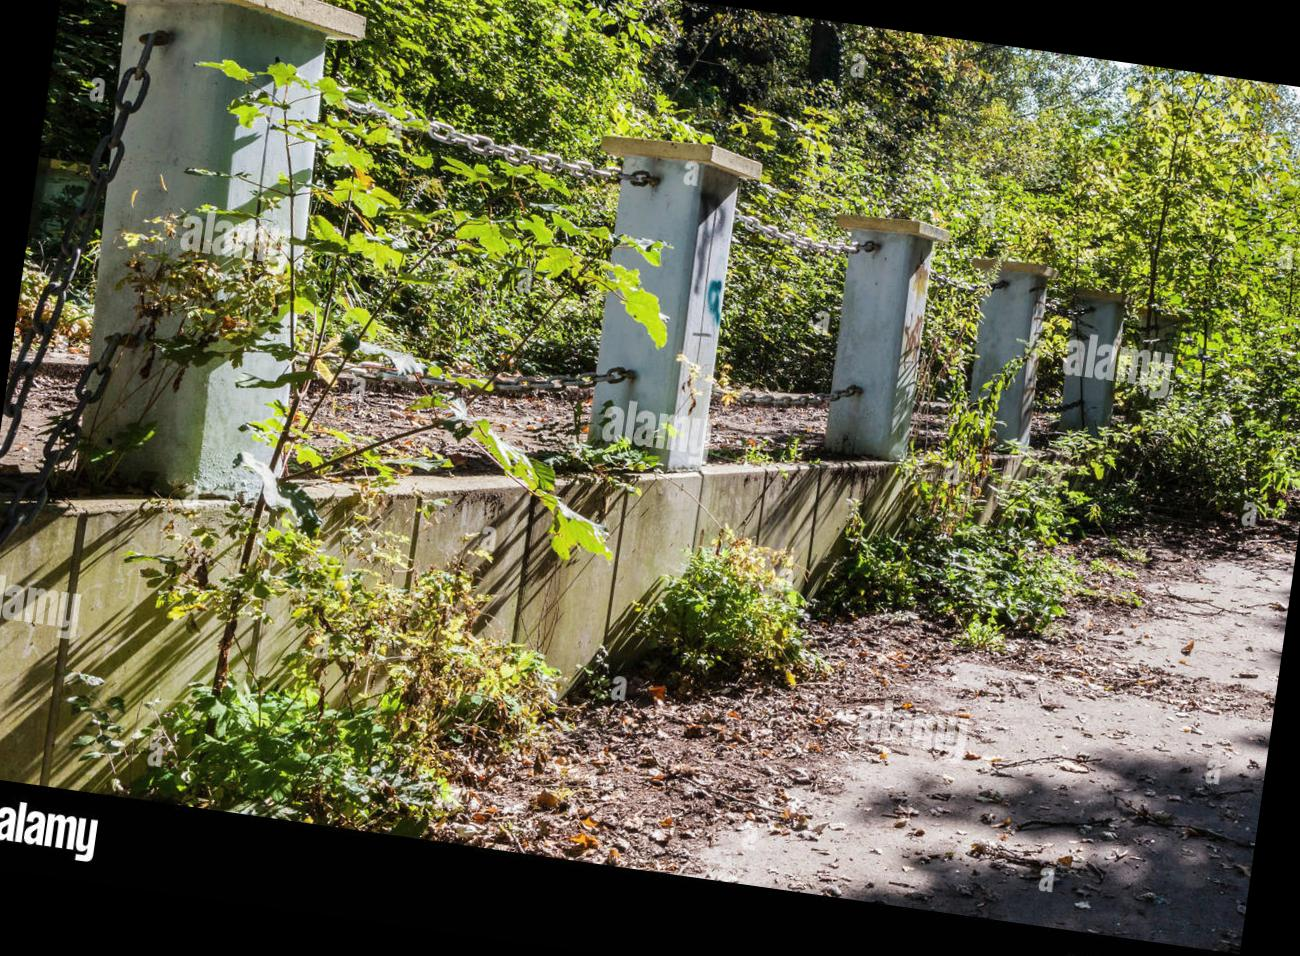overgrown grass: (76, 61, 653, 833), (817, 516, 1081, 633), (1062, 391, 1300, 516), (636, 530, 805, 675), (922, 358, 1022, 513)
